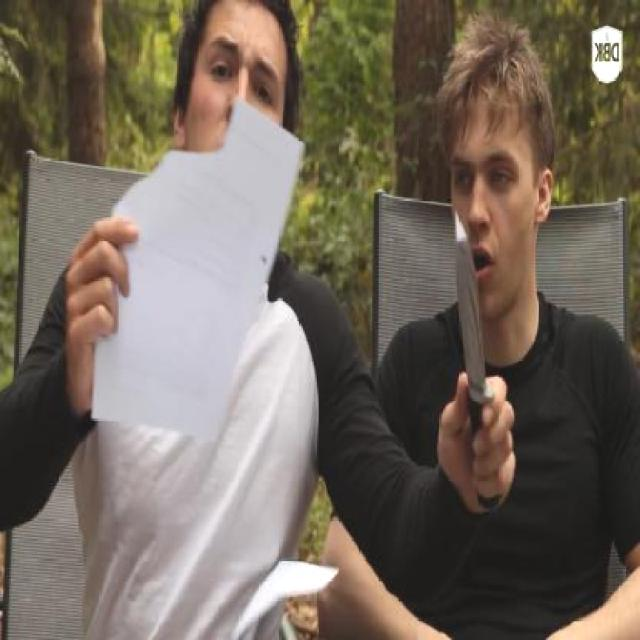knife: (445, 202, 512, 504)
